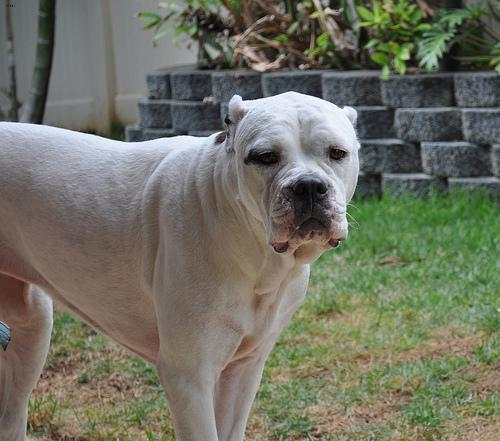dog-american_bulldog: (223, 90, 360, 252)
